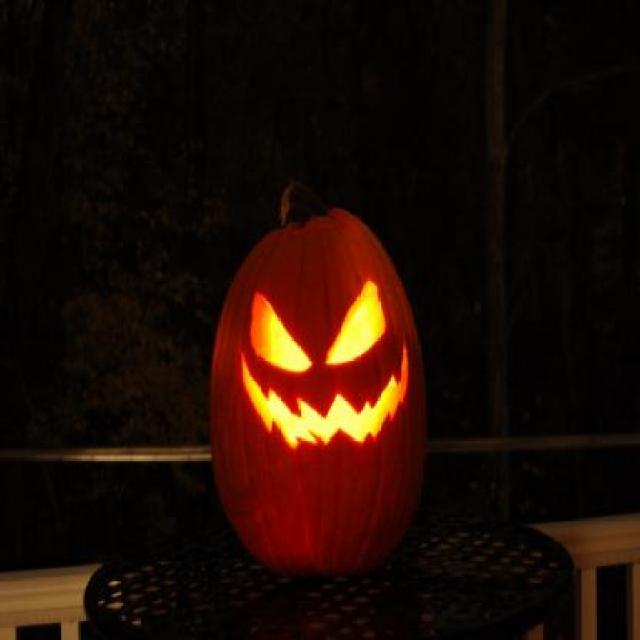Pumpkin: (207, 179, 433, 573)
